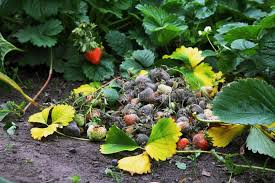ripe: (190, 128, 211, 149), (83, 42, 102, 63), (175, 134, 188, 150)
unripe: (85, 118, 107, 141)
